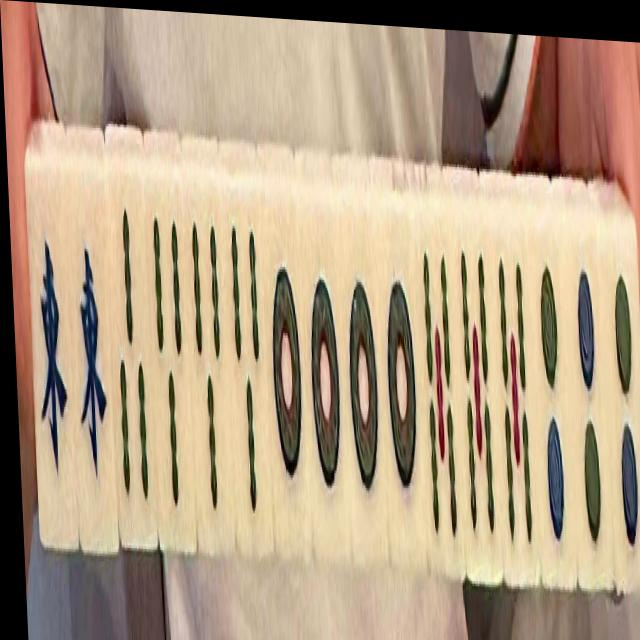east: (64, 178, 116, 540), (27, 176, 79, 537)
s3: (143, 180, 198, 554), (105, 177, 156, 538), (183, 190, 233, 551), (221, 192, 272, 544)
s5: (415, 212, 466, 583), (452, 211, 500, 558), (490, 213, 537, 559)
t1: (336, 196, 390, 568), (258, 191, 312, 546), (375, 206, 429, 551), (298, 190, 349, 551)
t2: (524, 219, 574, 572), (562, 236, 613, 572), (601, 243, 640, 574)
